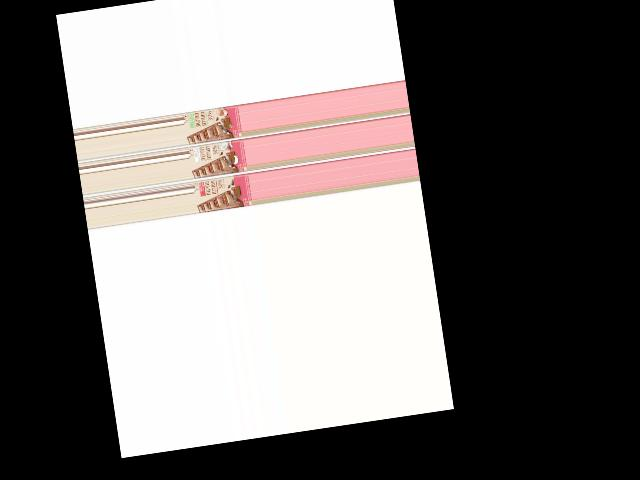chocolate: (182, 103, 243, 144)
